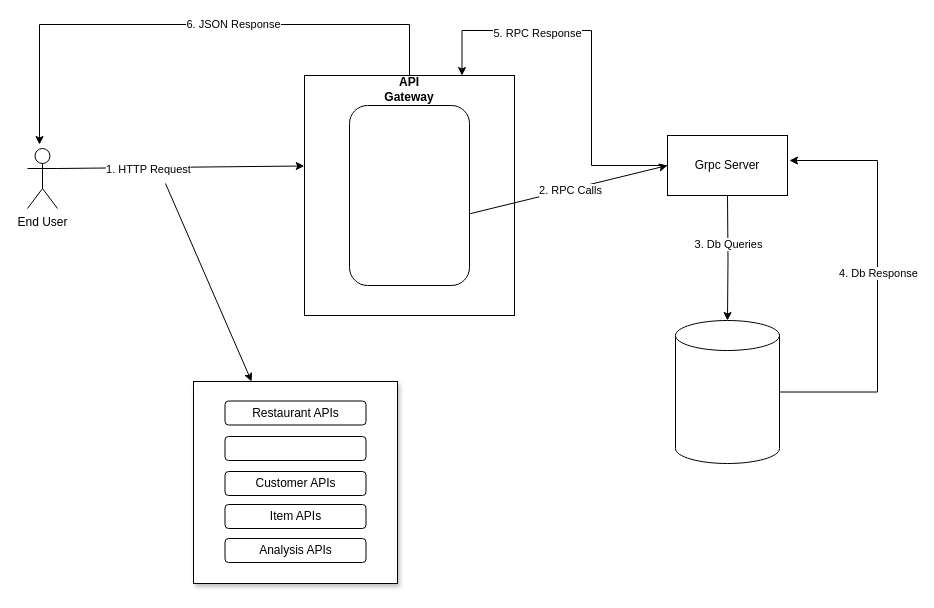
Some shapes in this 934 by 608 pixel diagram are drawn without their labels. Each missing label, with the centre of its shape:
DynamoDB: the point at 727,392
GRPC Client: the point at 409,195
Order APIs: the point at 295,448
